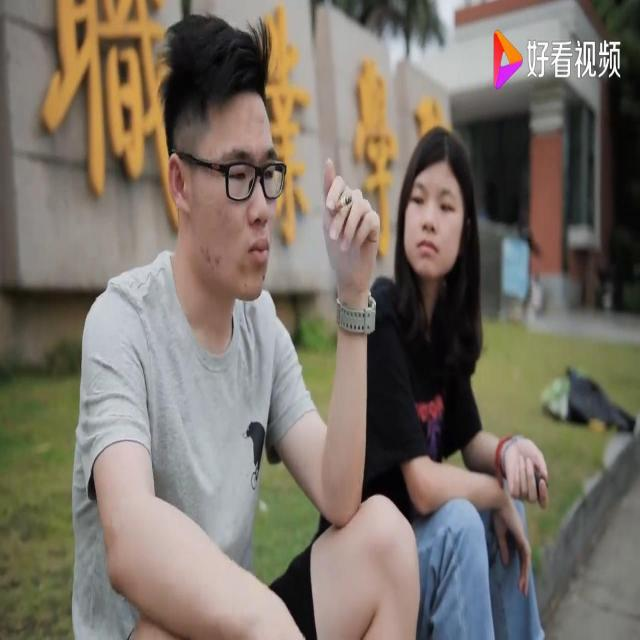smoke: (328, 187, 354, 222)
